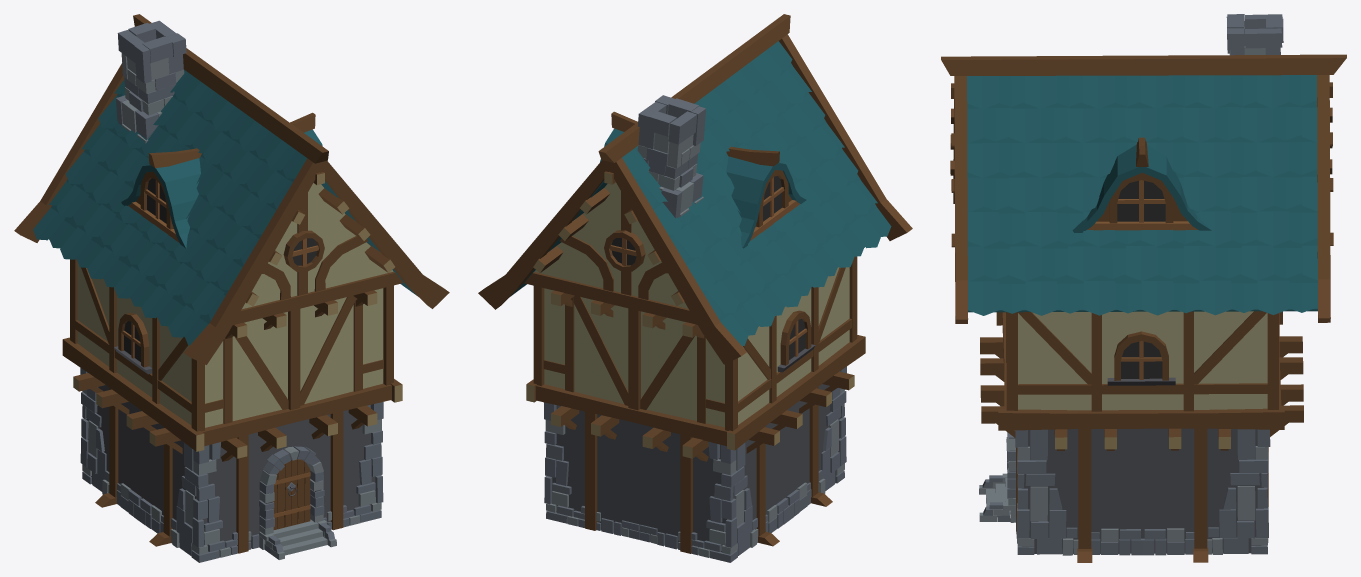
File: house_1_lev2.glb
The picture shows the model from 3 angles, left to right: view 1: azimuth 30°, elevation 25°; view 2: azimuth 150°, elevation 25°; view 3: azimuth 270°, elevation 25°; orthographic projection. The views are drawn at different scales.
Parts seen in each view (by area): view 1: house_1_lev2; view 2: house_1_lev2; view 3: house_1_lev2.
Part boxes in pixels (x1,y1,x2,y2): house_1_lev2: (14, 14, 449, 562); house_1_lev2: (478, 14, 912, 562); house_1_lev2: (941, 14, 1346, 562).
Size of the model in its own units: 6.35 by 9.96 by 7.81.
